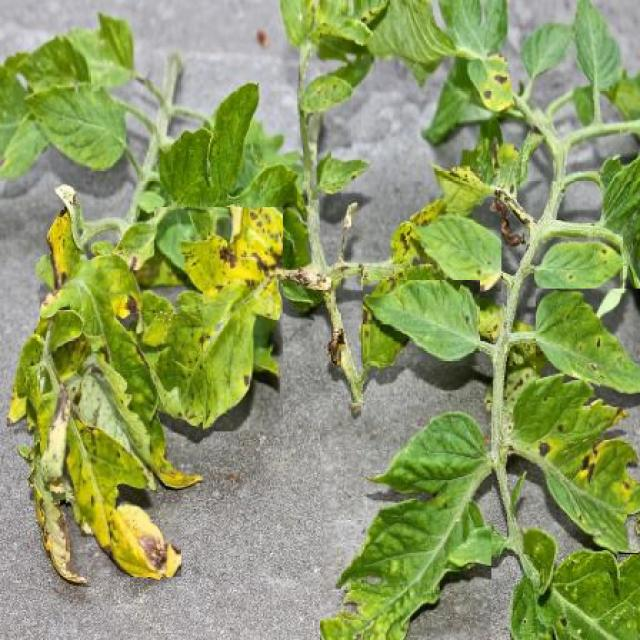Septoria: (319, 403, 492, 640), (40, 255, 203, 491), (154, 207, 282, 432), (507, 366, 640, 554), (66, 414, 181, 577), (535, 289, 640, 397), (362, 280, 480, 366), (410, 212, 501, 291), (534, 234, 623, 294)
